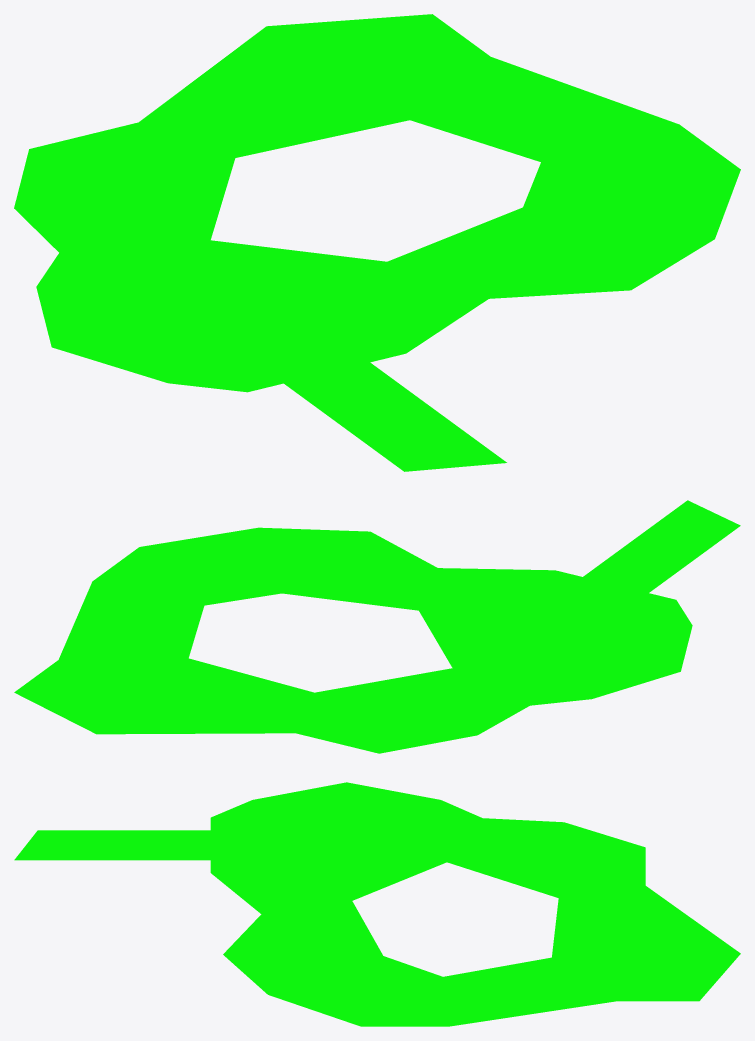
File: s01b_nb2-floor.glb
3 views of the same model, one above another, from view 1: azimuth 30°, elevation 25°; view 2: azimuth 150°, elevation 25°; view 3: azimuth 270°, elevation 25° (orthographic). The views are drawn at different scales.
Parts seen in each view (by area): view 1: collision_floor-colonly; view 2: collision_floor-colonly; view 3: collision_floor-colonly.
Boxes of the visible parts, <box> form: collision_floor-colonly: <box>14,14,740,471</box>; collision_floor-colonly: <box>14,500,740,753</box>; collision_floor-colonly: <box>14,782,740,1026</box>.
Size of the model in its own units: 48.5 by 0 by 60.99.
